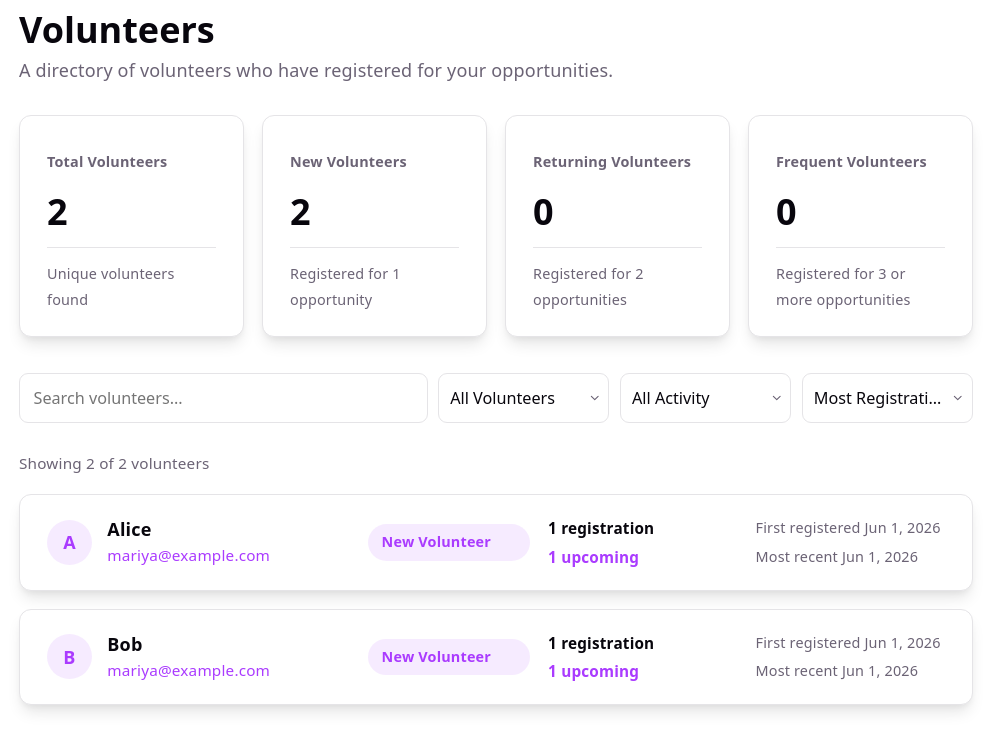
Test case: OrganizationVolunteersPage › filters › updates the filtered-results count
Expected: the text "Showing 2 of 2 volunteers" is shown, [19,453,209,473]
Type "Alice" into the search field labelled "Search". click: (223, 398)
box: [19,373,428,423]
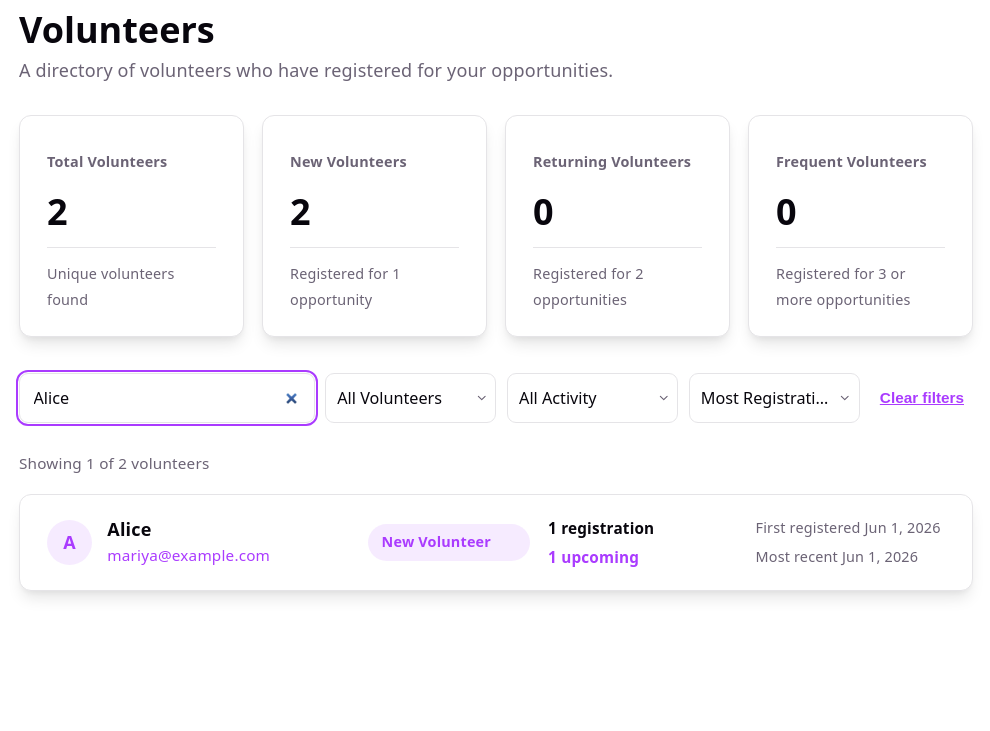
Result: the text "Showing 1 of 2 volunteers" is shown at [19,453,209,473]
